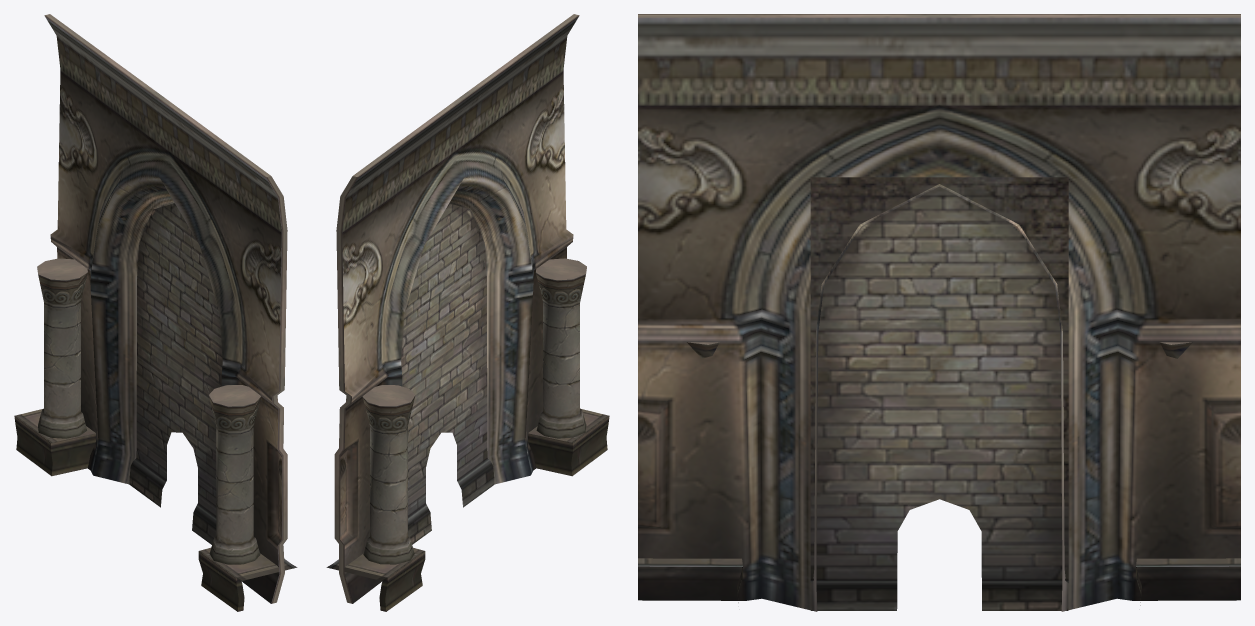
3 renders of one model, left to right at view 1: azimuth 30°, elevation 25°; view 2: azimuth 150°, elevation 25°; view 3: azimuth 270°, elevation 25°, orthographic. The views are drawn at different scales.
Visible parts, largest first — view 1: DN_1_4_dt02a; view 2: DN_1_4_dt02a; view 3: DN_1_4_dt02a.
Boxes of the visible parts, x1=… form: DN_1_4_dt02a: x1=14, y1=14, x2=297, y2=611; DN_1_4_dt02a: x1=326, y1=14, x2=609, y2=611; DN_1_4_dt02a: x1=638, y1=14, x2=1240, y2=611.
Size of the model in its own units: 322 by 2122 by 1989.
